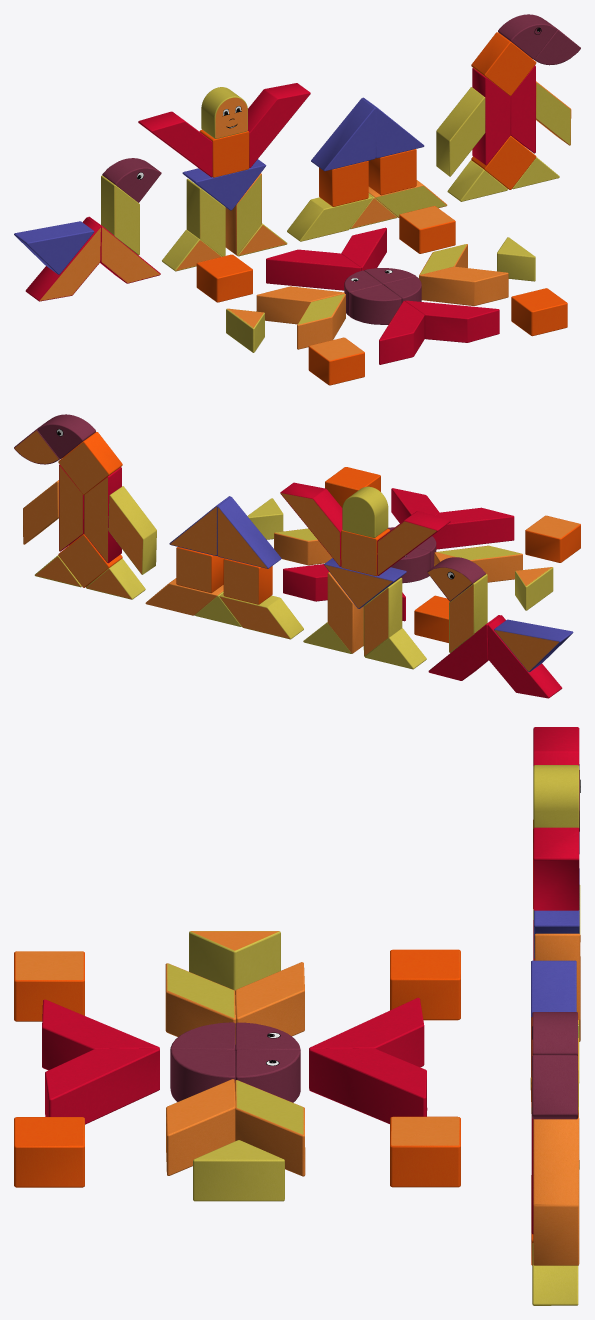
Rendered from unica_matс4d-all-4-opt.glb.
3 renders of one model, top to bottom at view 1: azimuth 30°, elevation 25°; view 2: azimuth 150°, elevation 25°; view 3: azimuth 270°, elevation 25°, orthographic. The views are drawn at different scales.
Visible parts, largest first — view 1: trapecia.2, kub.1, romb, romb.1, big-treug.2, 1/4round (×2), small-treug, Fill; view 2: trapecia.2, kub.1, romb.1, romb, big-treug.2, small-treug, 1/4round (×2), Fill; view 3: trapecia.2, romb, kub.1, 1/4round (×2), small-treug, big-treug.2, Fill.
Part boxes in pixels (x1,y1,x2,y2): trapecia.2: (25,65,535,364); kub.1: (196,32,567,385); romb: (225,81,571,349); romb.1: (101,87,485,256); big-treug.2: (14,97,424,274); 1/4round (×2): (102,14,580,324); small-treug: (162,157,559,352); Fill: (201,87,247,138); trapecia.2: (59,464,562,698); kub.1: (58,432,580,642); romb.1: (108,486,487,656); romb: (23,480,522,653); big-treug.2: (169,496,573,672); small-treug: (34,498,553,669); 1/4round (×2): (14,414,485,601); Fill: (342,486,388,537); trapecia.2: (42,727,579,1234); romb: (165,933,580,1265); kub.1: (14,820,578,1265); 1/4round (×2): (170,769,579,1119); small-treug: (189,931,579,1305); big-treug.2: (531,764,579,1076); Fill: (533,765,579,828).
Bounding box in the file's own units: 362 × 101 × 191.
Materials: 11 (9 with a texture image).
